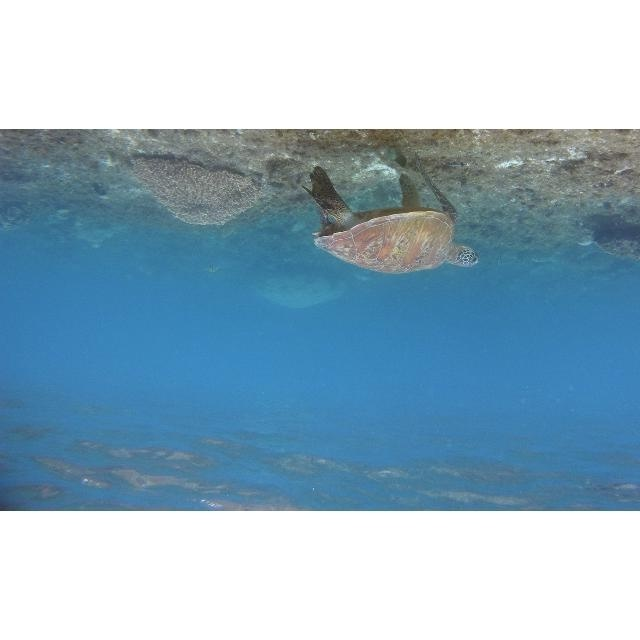turtle: (302, 153, 482, 275)
